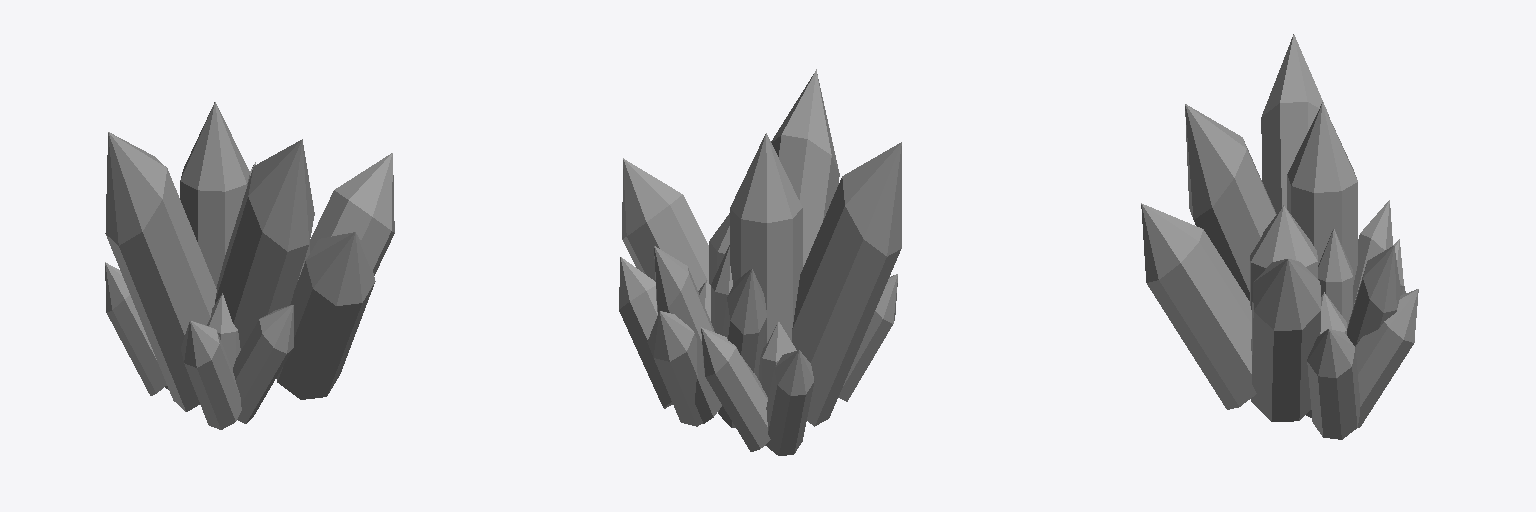
Rendered from crystal.obj.
3 views of the same model, side by side, from view 1: azimuth 30°, elevation 25°; view 2: azimuth 150°, elevation 25°; view 3: azimuth 270°, elevation 25° (orthographic).
Parts seen in each view (by area): view 1: Group11465; view 2: Group11465; view 3: Group11465.
Part boxes in pixels (x1,y1,x2,y2): Group11465: (105,102,394,429); Group11465: (619,69,901,455); Group11465: (1141,34,1418,439).
Bounding box in the file's own units: 0.6835 × 0.712 × 0.583.